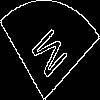M: (25, 25, 69, 87)
